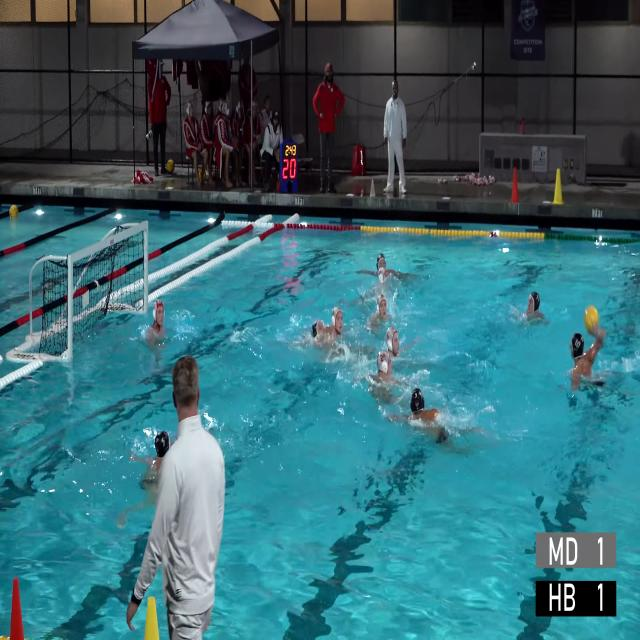ball: (584, 305, 599, 331), (9, 204, 19, 219), (167, 159, 174, 173), (199, 168, 206, 182)
